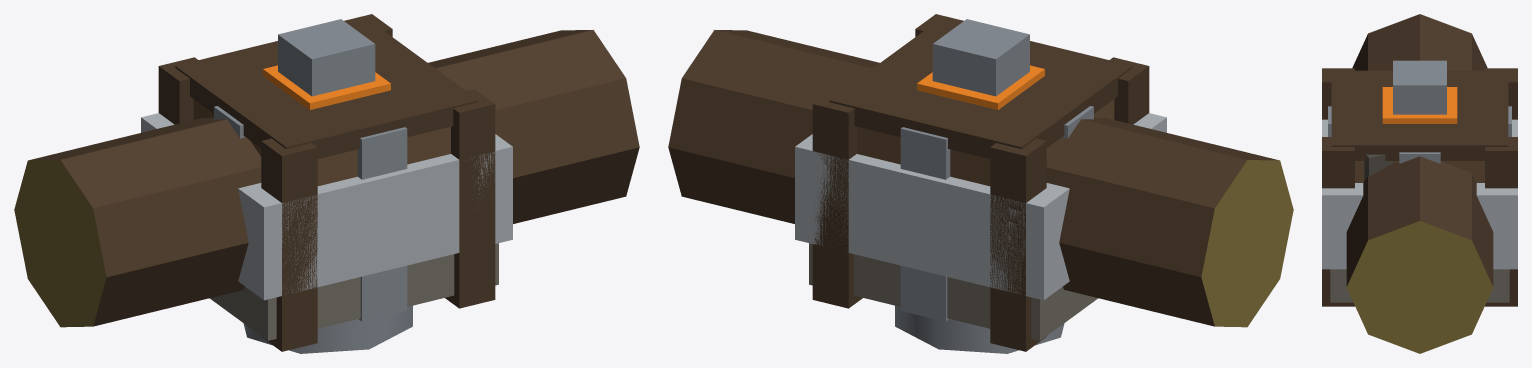
File: items_atlas.glb
The picture shows the model from 3 angles, left to right: view 1: azimuth 30°, elevation 25°; view 2: azimuth 150°, elevation 25°; view 3: azimuth 270°, elevation 25°; orthographic projection. The views are drawn at different scales.
Visible parts, largest first — view 1: Item_Log, Item_Crate, Item_FramePart, Item_WaterCanister, Item_OreChunk_Copper; view 2: Item_Log, Item_Crate, Item_FramePart, Item_WaterCanister, Item_OreChunk_Copper; view 3: Item_Log, Item_Crate, Item_FramePart, Item_WaterCanister, Item_OreChunk_Copper, Item_StoneChunk.
Part boxes in pixels (<box>): Item_Log: <box>14,29,639,327</box>; Item_Crate: <box>158,14,495,351</box>; Item_FramePart: <box>141,113,512,300</box>; Item_WaterCanister: <box>243,19,412,353</box>; Item_OreChunk_Copper: <box>210,243,498,340</box>; Item_Log: <box>668,29,1293,327</box>; Item_Crate: <box>812,14,1149,351</box>; Item_FramePart: <box>795,113,1166,300</box>; Item_WaterCanister: <box>895,19,1064,353</box>; Item_OreChunk_Copper: <box>809,243,1097,340</box>; Item_Log: <box>1346,14,1493,353</box>; Item_Crate: <box>1322,68,1517,306</box>; Item_FramePart: <box>1322,119,1517,269</box>; Item_WaterCanister: <box>1393,60,1446,114</box>; Item_OreChunk_Copper: <box>1330,269,1509,302</box>; Item_StoneChunk: <box>1364,154,1393,180</box>.
Bounding box in the file's own units: 0.6 × 0.3 × 0.24.
